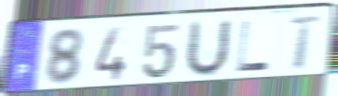4: (93, 25, 130, 83)
5: (140, 22, 182, 80)
8: (44, 26, 85, 88)
L: (235, 19, 271, 74)
T: (286, 14, 325, 71)
U: (182, 17, 234, 80)
